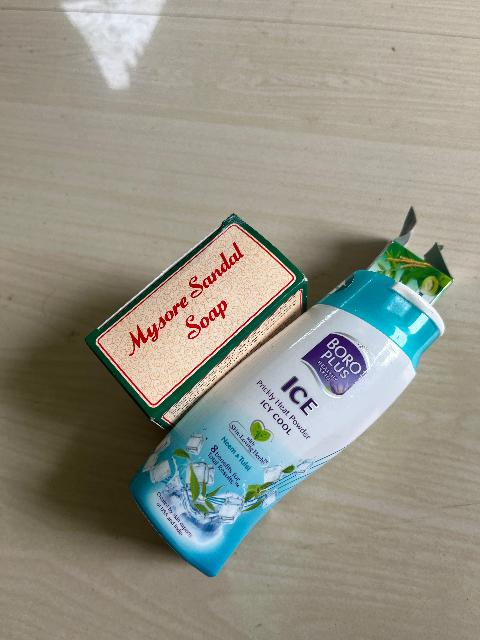boroplus: (200, 314, 450, 566)
mysore sandal soap: (92, 227, 310, 401)
